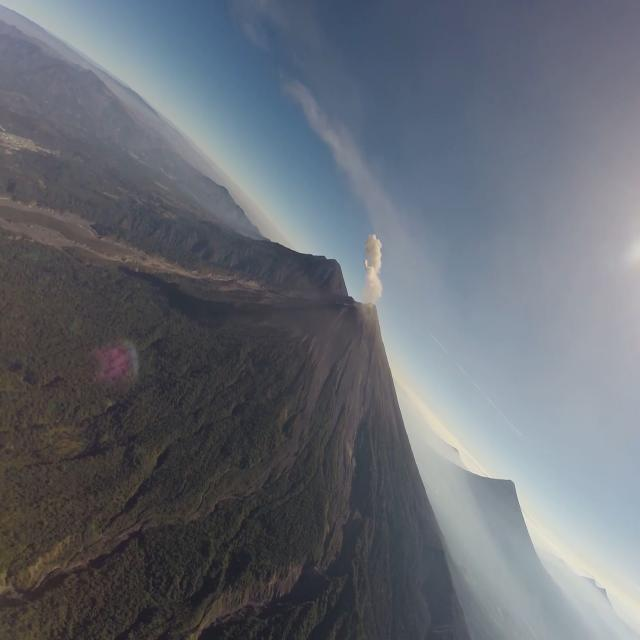Plume: (359, 228, 386, 305)
Summit: (342, 298, 383, 338)
